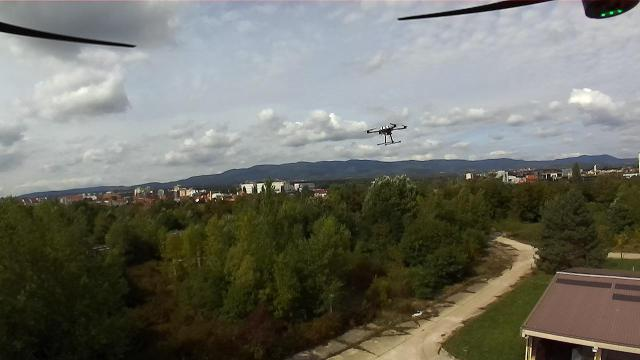drone: (0, 354, 640, 360)
